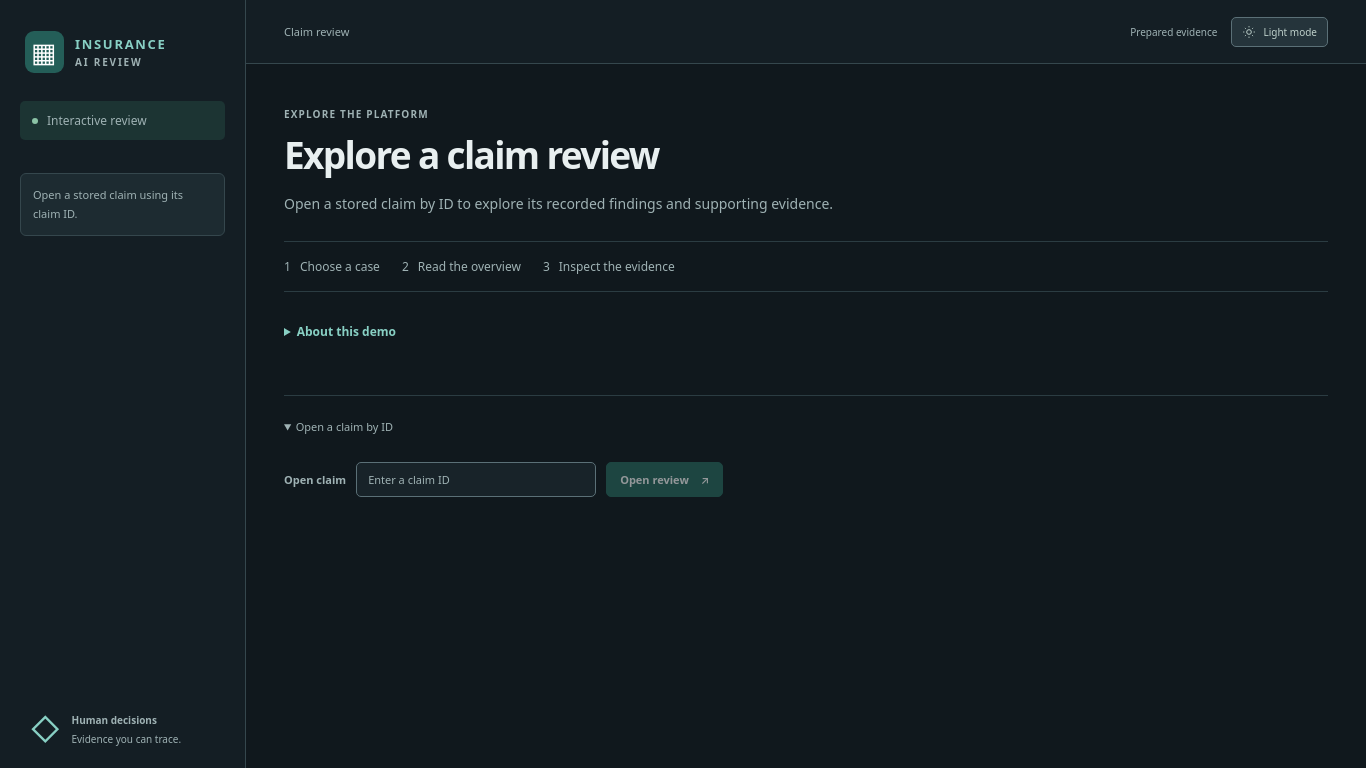
Test: Review API integration › keeps an empty catalogue usable through manual claim lookup
Expected: the heading "Explore a claim review" is shown, [284, 128, 659, 180]
Type "DEMO-COHERENT" into the field labelled "Open claim" at coordinates (476, 480), box [356, 462, 596, 497]
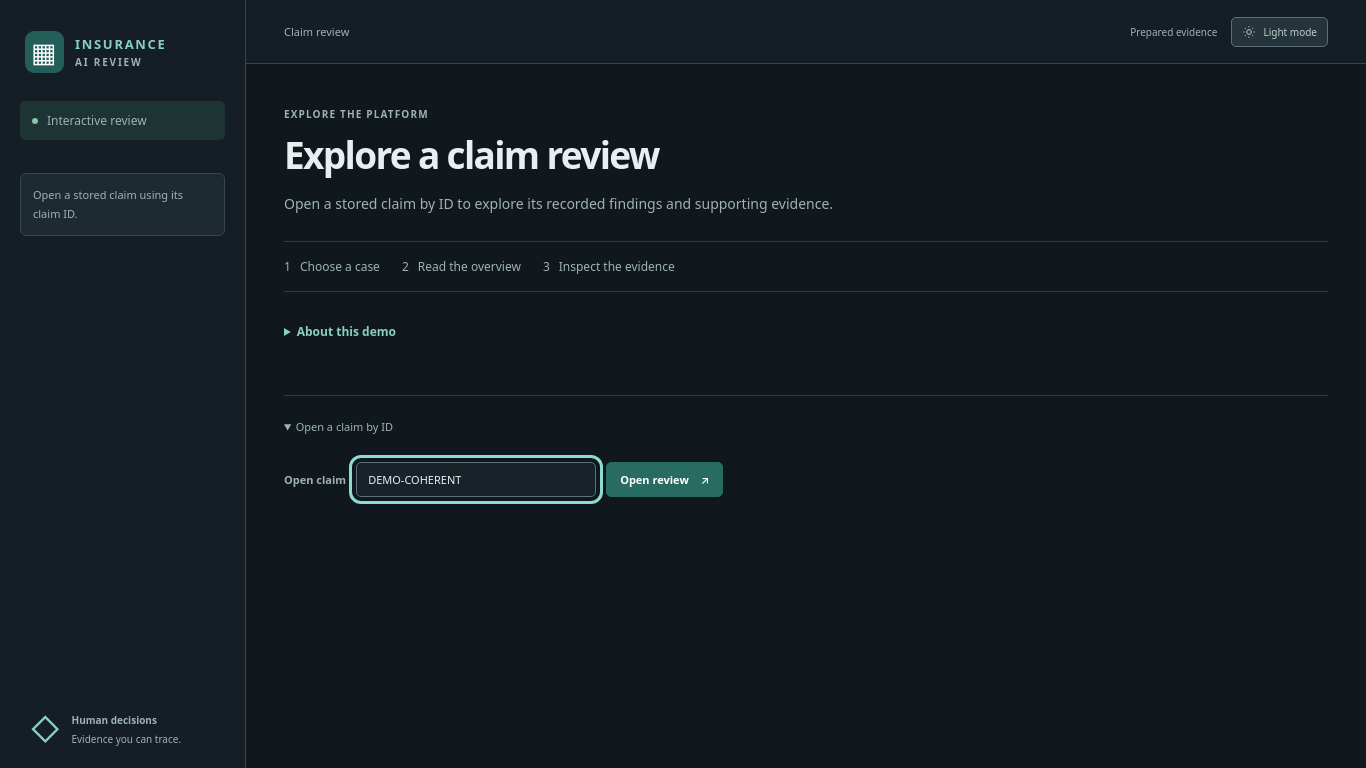
Click the button "Open review ↗" at coordinates (665, 480), box [606, 462, 723, 497]
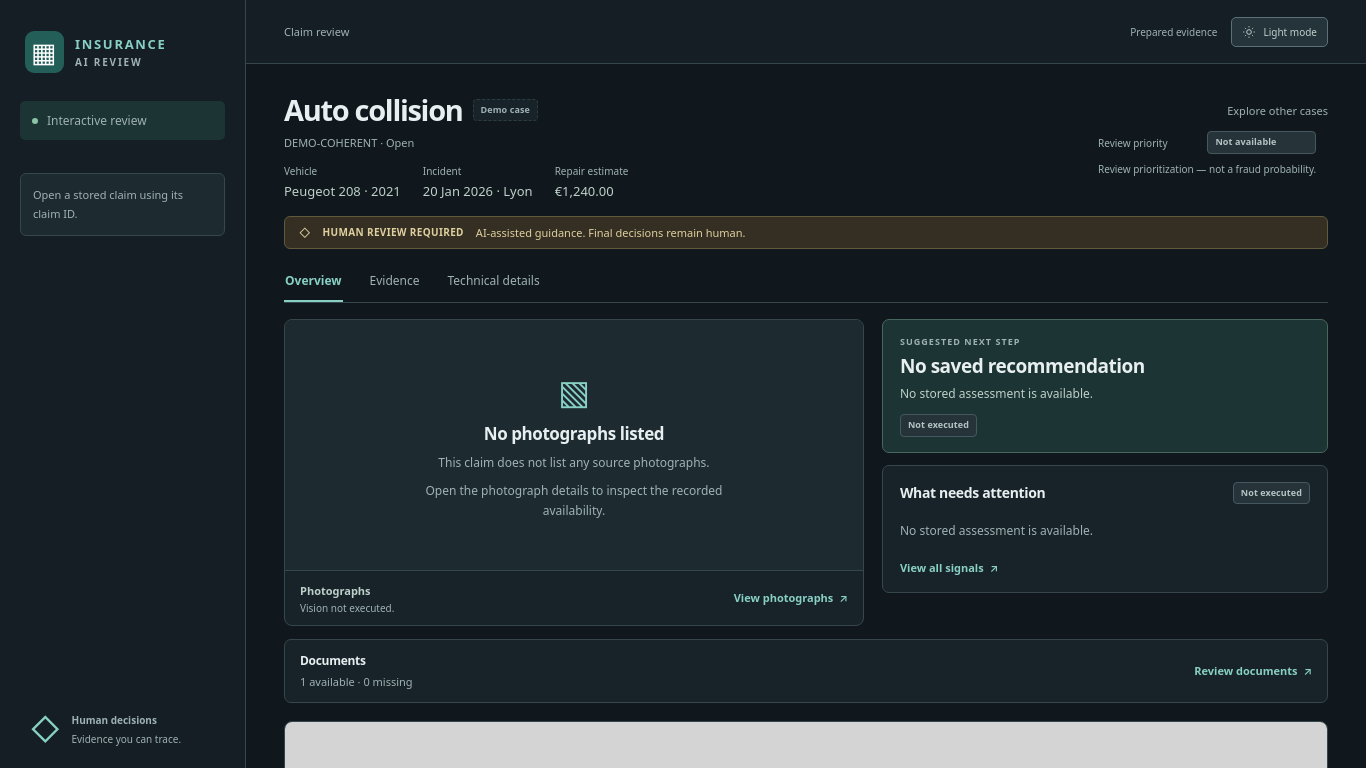
Now the heading "Auto collision" is shown, box [284, 92, 462, 128]
